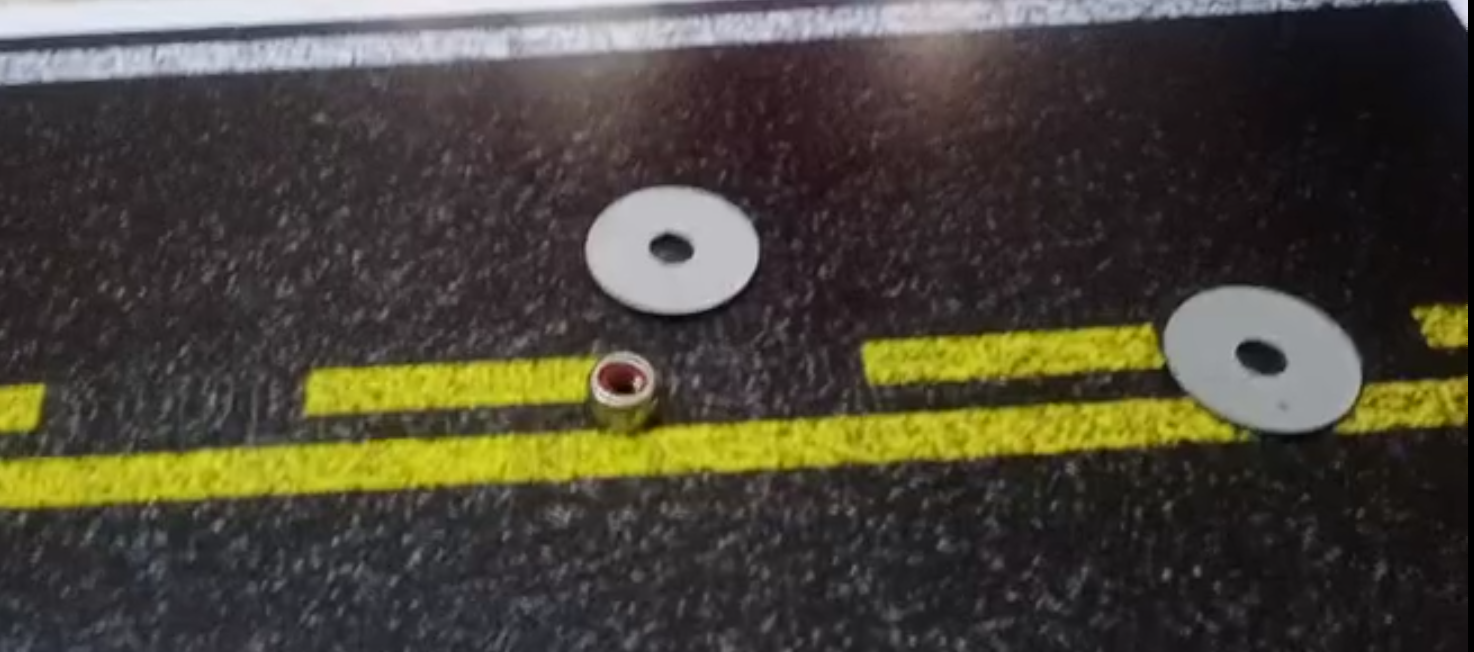metal: (1159, 280, 1371, 445), (578, 177, 778, 320), (580, 347, 667, 436)
